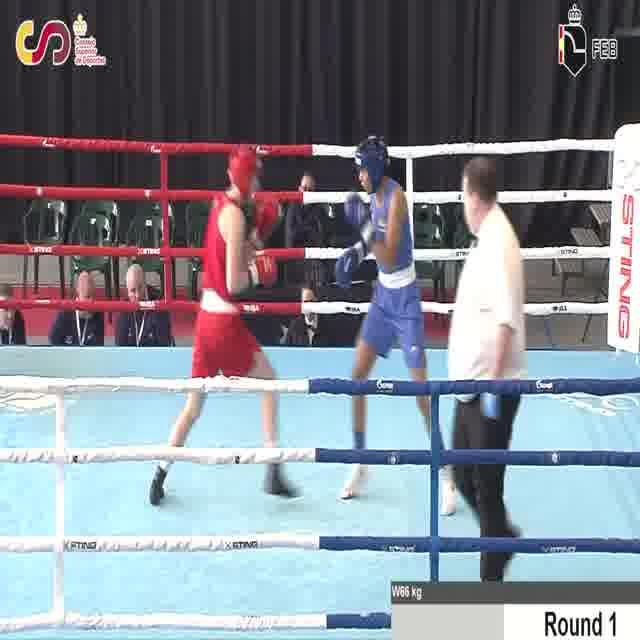blue-player: (331, 131, 462, 520)
red-player: (146, 143, 310, 511)
referee: (442, 154, 528, 597)
